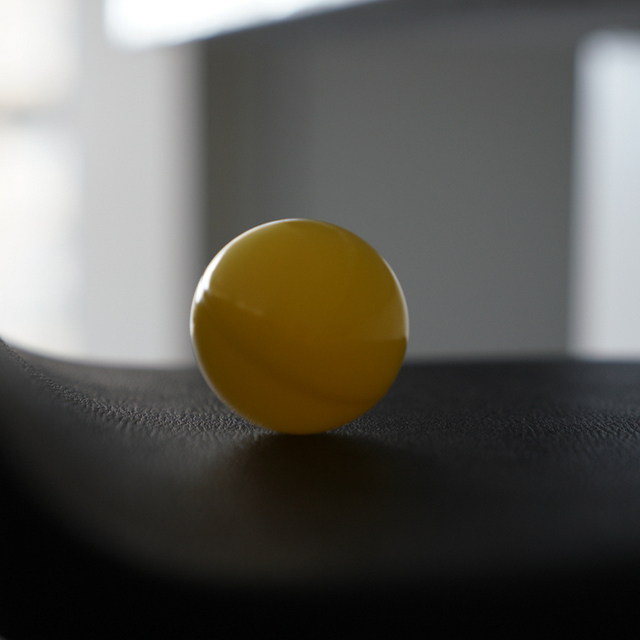Ball: (197, 213, 413, 433)
